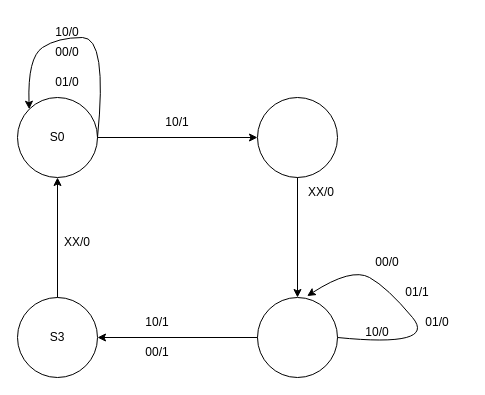
The diagram is 485 pixels wide and 395 high, and some of its shapes have lost their labels. Here are the shapes that lost their labels. From the top down, the centre of each, then its label:
At (x=297, y=137): "S1".
At (x=297, y=337): "S2".
